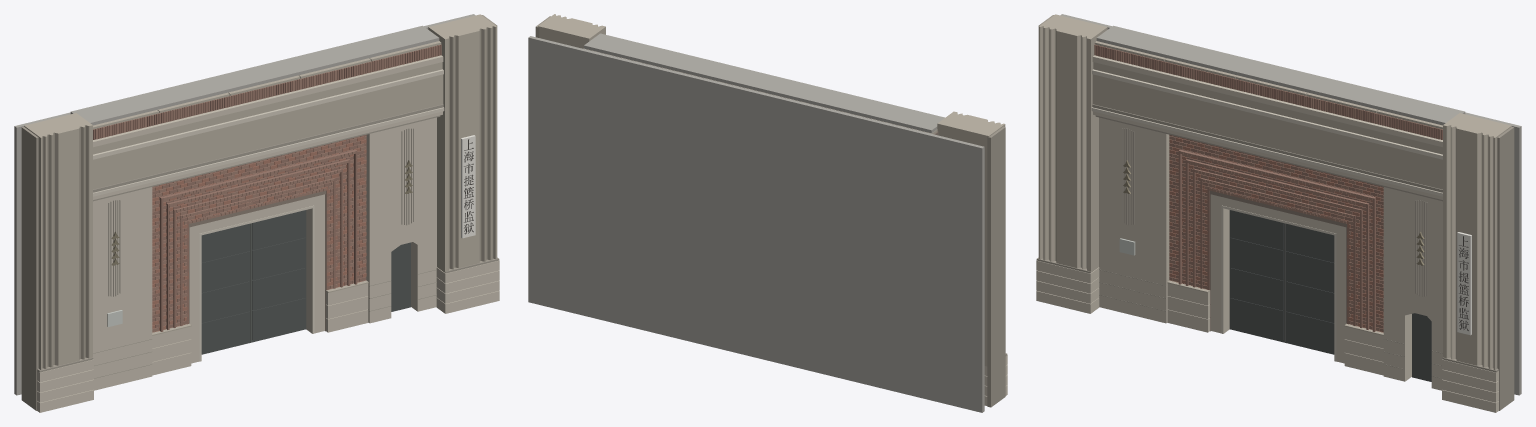
Rendered from hongkou-tilanqiao-historic-front-raw.glb.
3 views of the same model, side by side, from view 1: azimuth 30°, elevation 25°; view 2: azimuth 150°, elevation 25°; view 3: azimuth 330°, elevation 25° (orthographic).
Parts seen in each view (by area): view 1: 提篮桥旧址长阳路门楼（2015年街面）; view 2: 提篮桥旧址长阳路门楼（2015年街面）; view 3: 提篮桥旧址长阳路门楼（2015年街面）.
Part boxes in pixels (x1,y1,x2,y2): 提篮桥旧址长阳路门楼（2015年街面）: [14, 14, 499, 412]; 提篮桥旧址长阳路门楼（2015年街面）: [528, 14, 1007, 412]; 提篮桥旧址长阳路门楼（2015年街面）: [1036, 14, 1521, 412].
Size of the model in its own units: 17.6 by 10 by 1.75.
